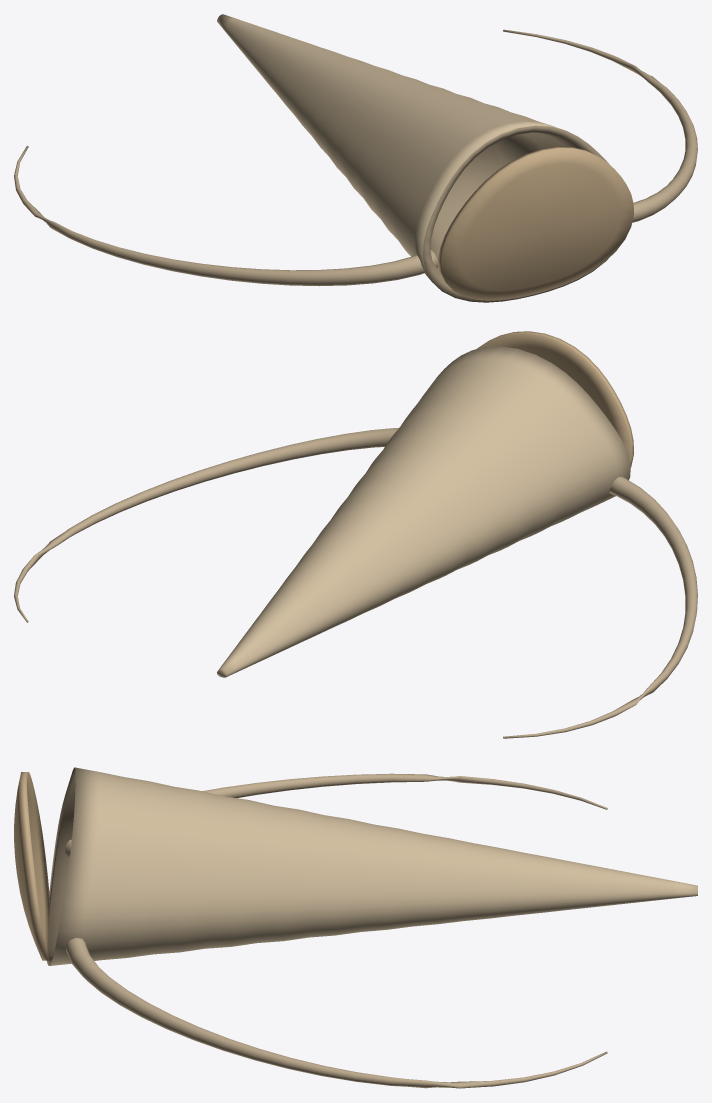
Rendered from haplophrentis.glb.
The picture shows the model from 3 angles, top to bottom: view 1: azimuth 30°, elevation 25°; view 2: azimuth 150°, elevation 25°; view 3: azimuth 270°, elevation 25°; orthographic projection. The views are drawn at different scales.
Parts seen in each view (by area): view 1: tapered-conch-with-visible-aperture, separate-simplified-operculum, two-long-curved-helens-from-aperture; view 2: tapered-conch-with-visible-aperture, two-long-curved-helens-from-aperture, separate-simplified-operculum; view 3: tapered-conch-with-visible-aperture, two-long-curved-helens-from-aperture, separate-simplified-operculum.
Part boxes in pixels (bbox=[...]): tapered-conch-with-visible-aperture: bbox=[217, 14, 609, 302]; separate-simplified-operculum: bbox=[438, 146, 633, 300]; two-long-curved-helens-from-aperture: bbox=[14, 29, 697, 286]; tapered-conch-with-visible-aperture: bbox=[217, 346, 630, 677]; two-long-curved-helens-from-aperture: bbox=[14, 428, 697, 738]; separate-simplified-operculum: bbox=[477, 331, 633, 467]; tapered-conch-with-visible-aperture: bbox=[47, 767, 697, 965]; two-long-curved-helens-from-aperture: bbox=[65, 773, 607, 1088]; separate-simplified-operculum: bbox=[14, 772, 49, 960].
Size of the model in its own units: 0.05 by 0.0124 by 0.0467.
